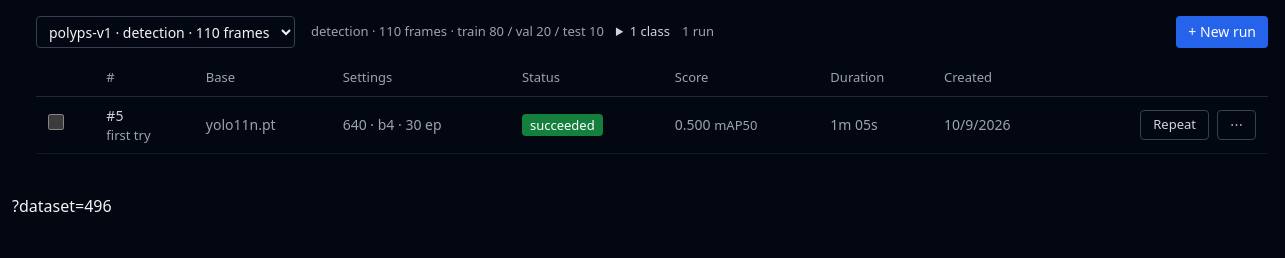
Scenario: TrainPage › deleting a run › shows the server's message on a 409
The width and height of the screenshot is (1285, 258).
Step 1. Click the button "⋯" → (1236, 125), box x1=1217 y1=110 x2=1256 y2=140
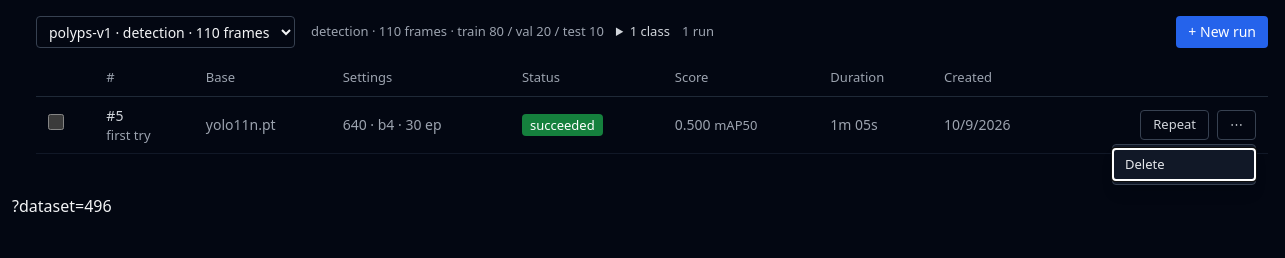
Step 2. Click the menu item "Delete" → (1184, 164), box x1=1113 y1=148 x2=1255 y2=180
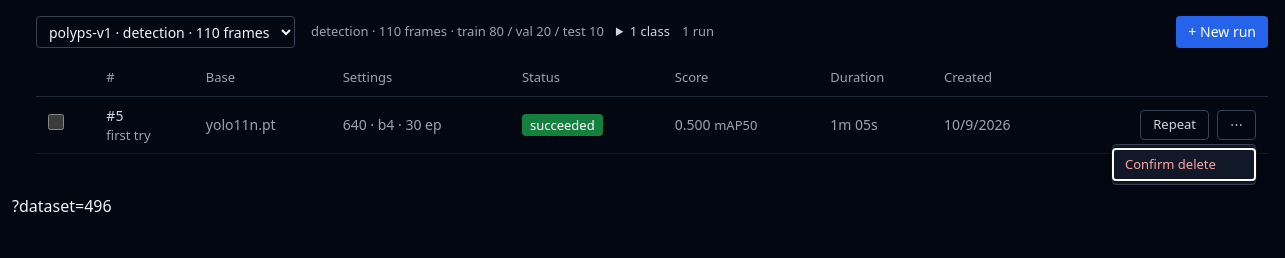
Step 3. Click the menu item with aria-label "Confirm delete run 5" → (1184, 164), box x1=1113 y1=148 x2=1255 y2=180
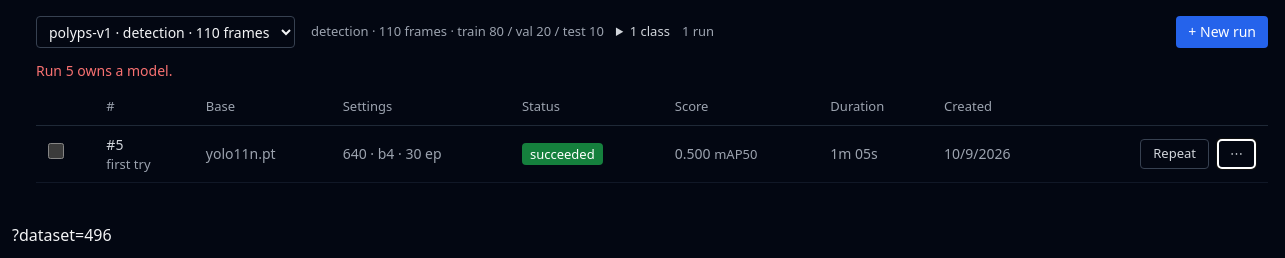
Check: the text "first try" is shown, box x1=106 y1=154 x2=151 y2=172
Check: the message reads "Run 5 owns a model.", box x1=36 y1=61 x2=172 y2=80
